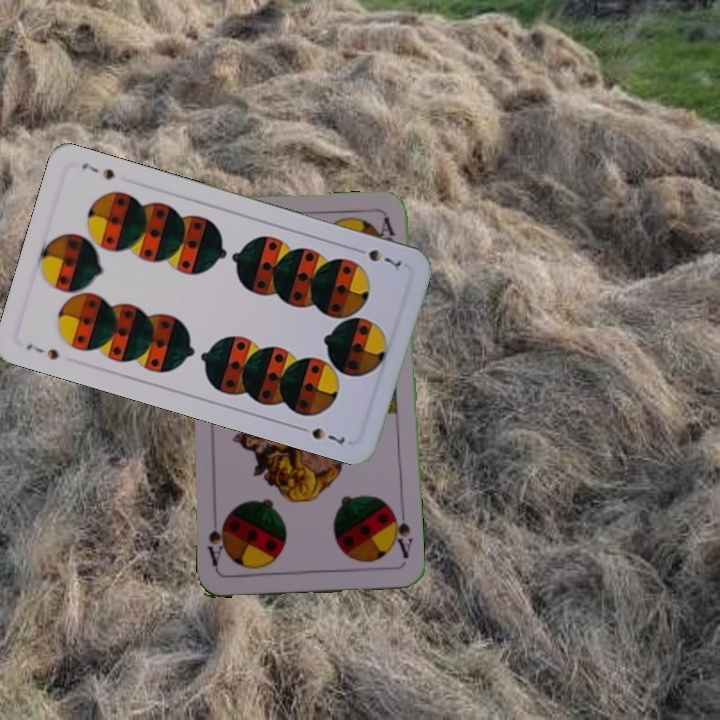S7: (350, 243, 404, 270), (22, 339, 61, 363)
SA: (387, 505, 415, 561)
